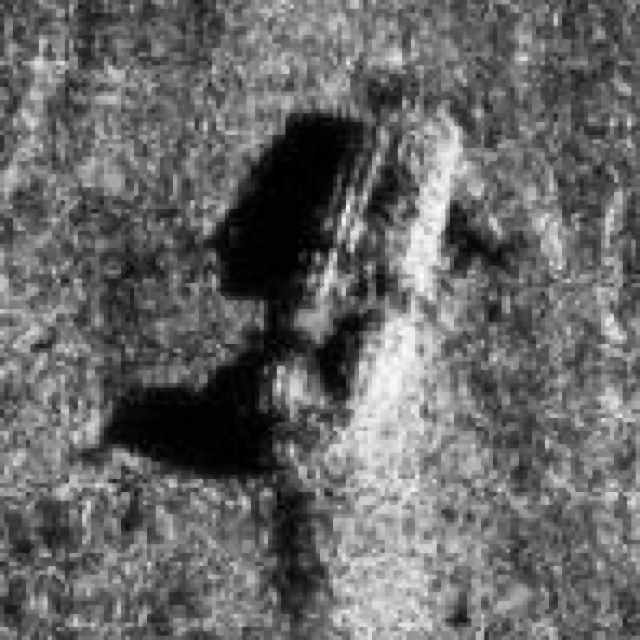Ship: (256, 88, 469, 495)
